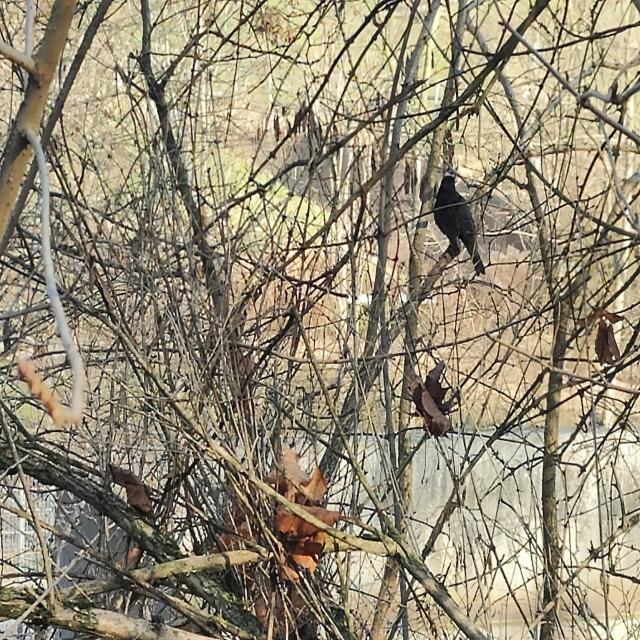bird: (434, 175, 486, 277)
